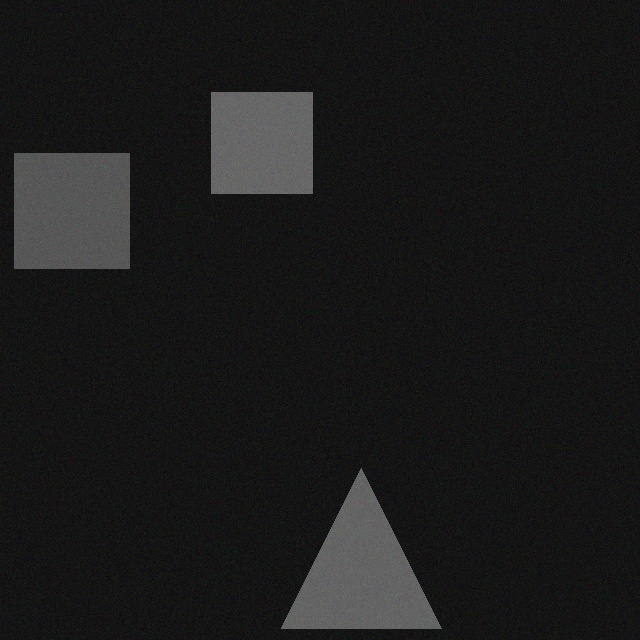square: (11, 156, 126, 271), (208, 95, 309, 196)
triangle: (278, 471, 438, 631)
